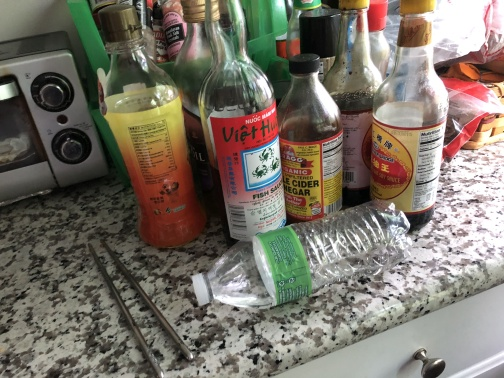bottle: (190, 197, 418, 313)
